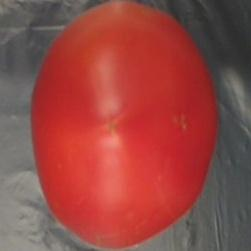unripe: (20, 0, 225, 251)
